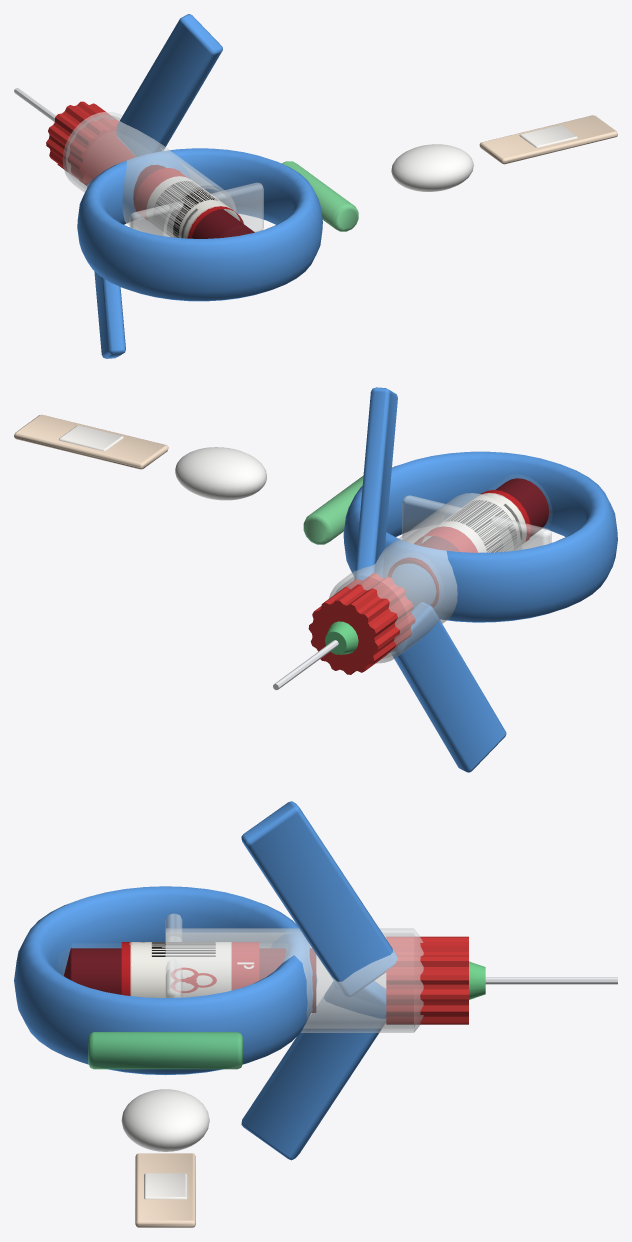
Rendered from kit_extraccion.glb.
3 views of the same model, one above another, from view 1: azimuth 30°, elevation 25°; view 2: azimuth 150°, elevation 25°; view 3: azimuth 270°, elevation 25° (orthographic). The views are drawn at different scales.
Visible parts, largest first — view 1: torniquete_banda, portatubos, torniquete_cola1, tubo_kit_tapon, tubo_kit_etq, algodon, portatubos_aleta, tirita_tira, torniquete_cola-1, tapa_aguja, sangre_kit_liq, tirita_gasa; view 2: torniquete_banda, portatubos, torniquete_cola-1, tubo_kit_tapon, torniquete_cola1, tubo_kit_etq, algodon, tirita_tira, portatubos_aleta, sangre_kit_liq, tapa_aguja, tirita_gasa (+2 smaller); view 3: torniquete_banda, portatubos, torniquete_cola1, torniquete_cola-1, tubo_kit_etq, tubo_kit_tapon, tapa_aguja, algodon, tirita_tira, sangre_kit_liq, tirita_gasa, aguja (+1 smaller).
Boxes of the visible parts, bbox=[...] form: torniquete_banda: bbox=[77, 148, 322, 301]; portatubos: bbox=[62, 111, 236, 236]; torniquete_cola1: bbox=[116, 14, 222, 156]; tubo_kit_tapon: bbox=[46, 101, 135, 185]; tubo_kit_etq: bbox=[135, 168, 243, 238]; algodon: bbox=[391, 144, 473, 191]; portatubos_aleta: bbox=[129, 182, 263, 237]; tirita_tira: bbox=[479, 115, 617, 164]; torniquete_cola-1: bbox=[87, 179, 125, 358]; tapa_aguja: bbox=[282, 161, 358, 231]; sangre_kit_liq: bbox=[133, 165, 254, 238]; tirita_gasa: bbox=[519, 125, 577, 147]; torniquete_banda: bbox=[343, 451, 617, 622]; portatubos: bbox=[329, 493, 521, 663]; torniquete_cola-1: bbox=[391, 602, 506, 772]; tubo_kit_tapon: bbox=[308, 573, 415, 674]; torniquete_cola1: bbox=[354, 387, 397, 580]; tubo_kit_etq: bbox=[414, 490, 530, 552]; algodon: bbox=[175, 447, 266, 500]; tirita_tira: bbox=[14, 414, 168, 469]; portatubos_aleta: bbox=[402, 495, 551, 551]; sangre_kit_liq: bbox=[388, 478, 549, 609]; tapa_aguja: bbox=[303, 475, 363, 544]; tirita_gasa: bbox=[59, 425, 123, 451]; torniquete_banda: bbox=[14, 886, 316, 1075]; portatubos: bbox=[165, 928, 423, 1032]; torniquete_cola1: bbox=[241, 801, 397, 997]; torniquete_cola-1: bbox=[241, 981, 385, 1160]; tubo_kit_etq: bbox=[121, 942, 259, 998]; tubo_kit_tapon: bbox=[386, 936, 468, 1024]; tapa_aguja: bbox=[88, 1032, 242, 1069]; algodon: bbox=[121, 1089, 209, 1151]; tirita_tira: bbox=[135, 1153, 195, 1227]; sangre_kit_liq: bbox=[64, 948, 315, 1012]; tirita_gasa: bbox=[144, 1173, 187, 1199]; aguja: bbox=[485, 977, 617, 984].
Size of the model in its own units: 0.1325 by 0.0798 by 0.1095.
12 materials, 1 textured.
